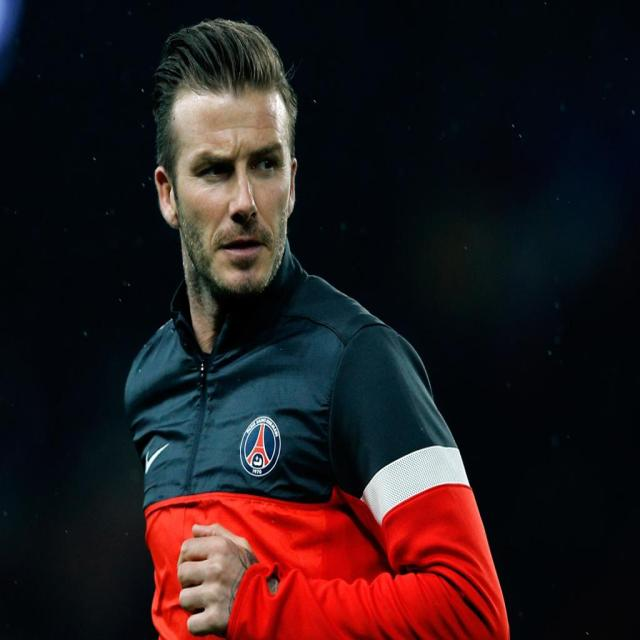Face: (147, 36, 302, 297)
